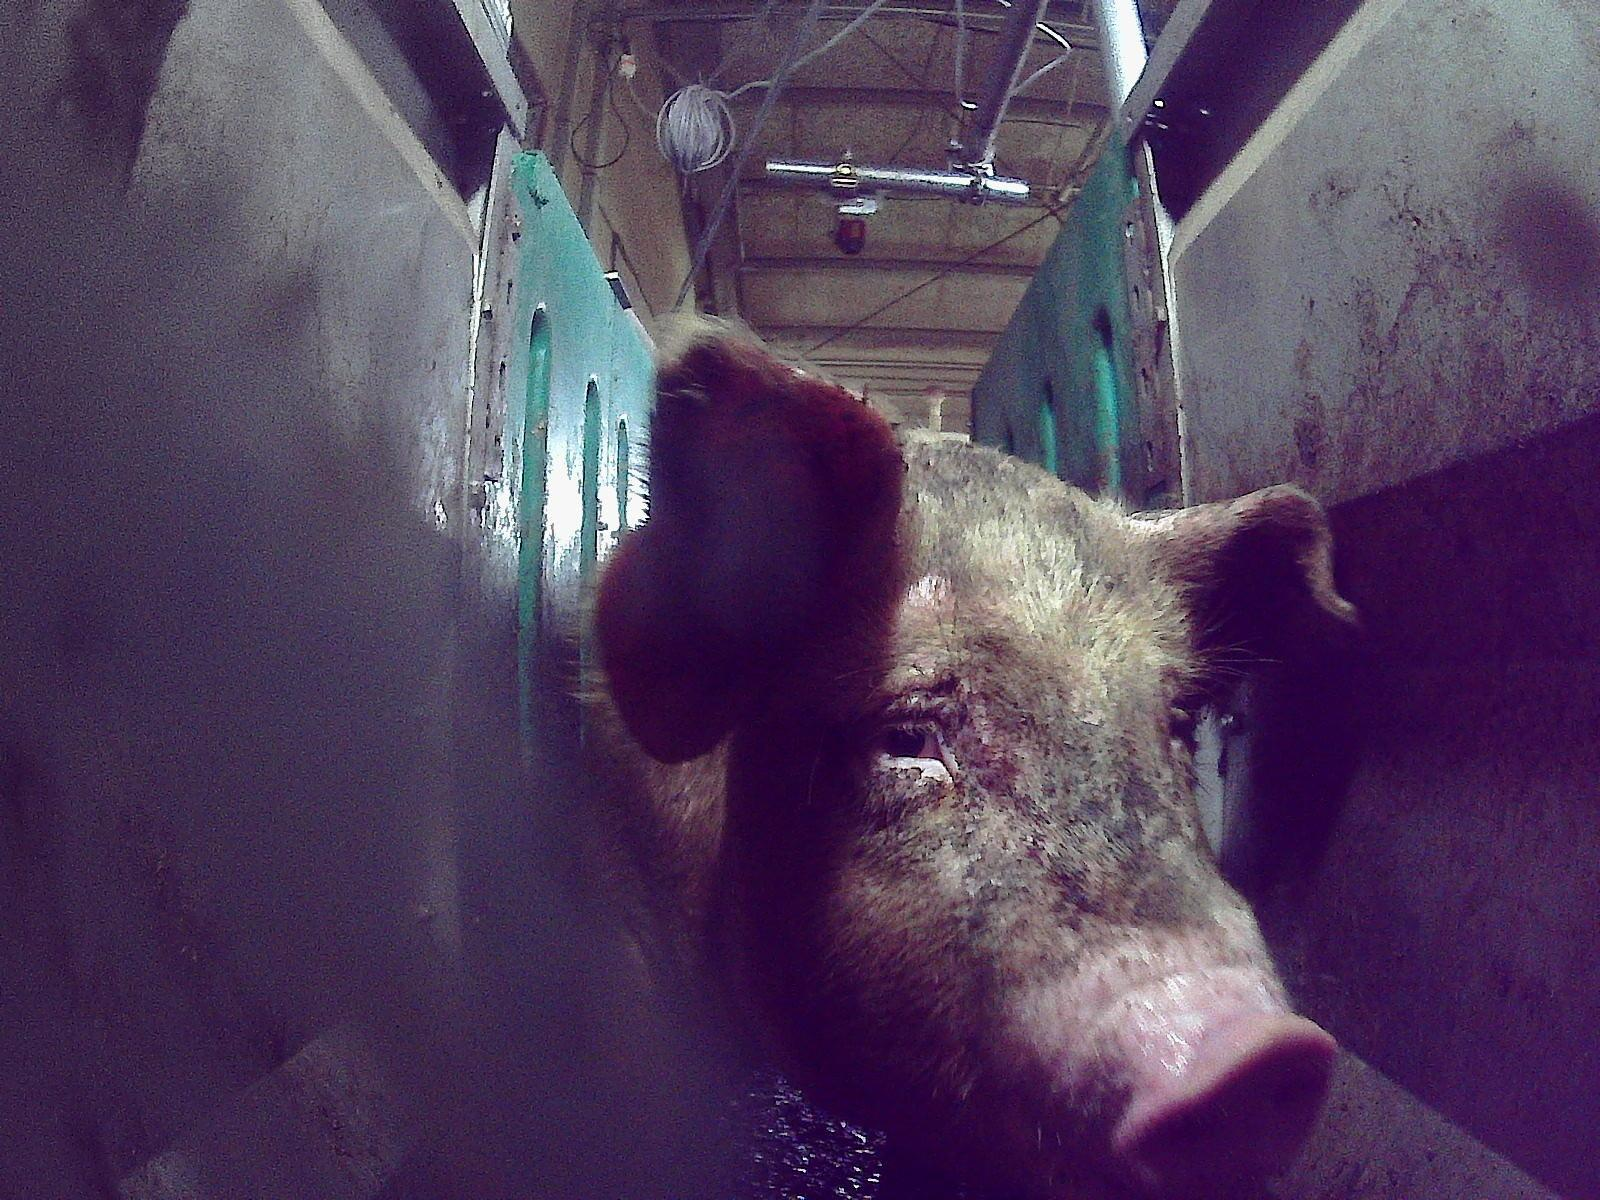Face: (720, 482, 1336, 1191)
